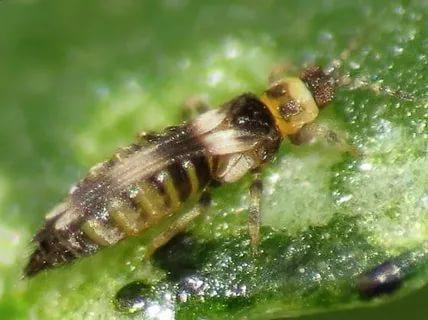tiny_pests: (0, 40, 395, 320)
